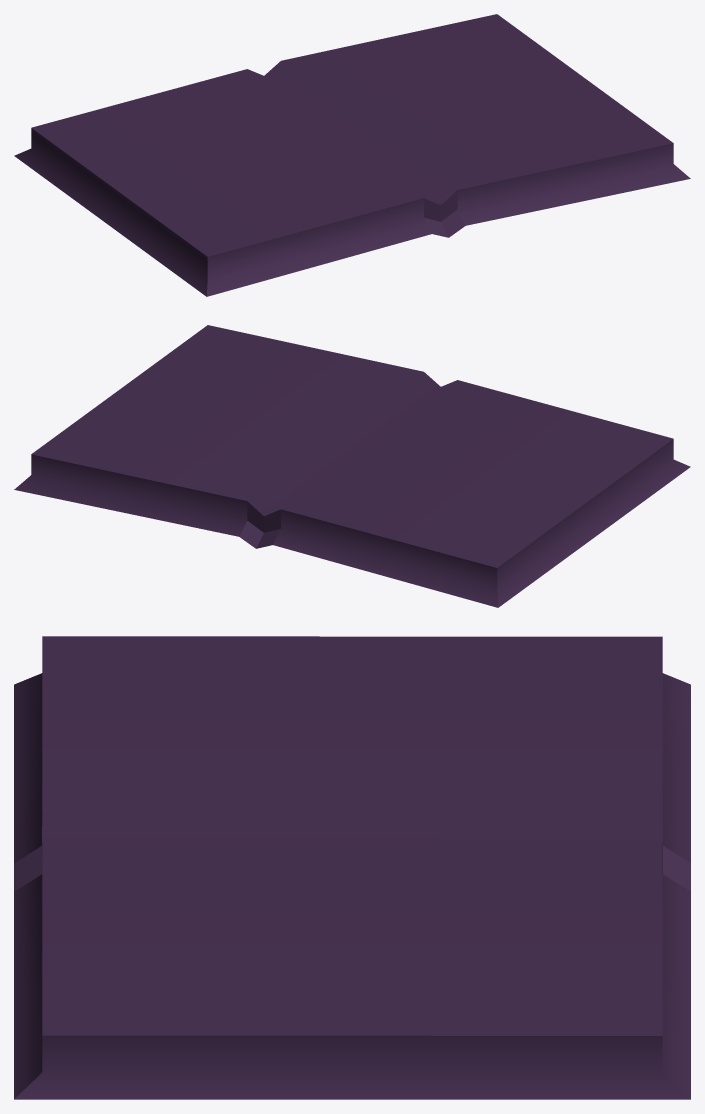
The model's file is DD_12_openBook_HENRY.fbx.
The picture shows the model from 3 angles, top to bottom: view 1: azimuth 30°, elevation 25°; view 2: azimuth 150°, elevation 25°; view 3: azimuth 270°, elevation 25°; orthographic projection. The views are drawn at different scales.
Visible parts, largest first — view 1: DD_12_openBook; view 2: DD_12_openBook; view 3: DD_12_openBook.
Part boxes in pixels (x1=…): DD_12_openBook: x1=14, y1=14, x2=690, y2=296; DD_12_openBook: x1=14, y1=325, x2=690, y2=607; DD_12_openBook: x1=14, y1=636, x2=690, y2=1099.
Size of the model in its own units: 6.38 by 0.4761 by 4.4.
